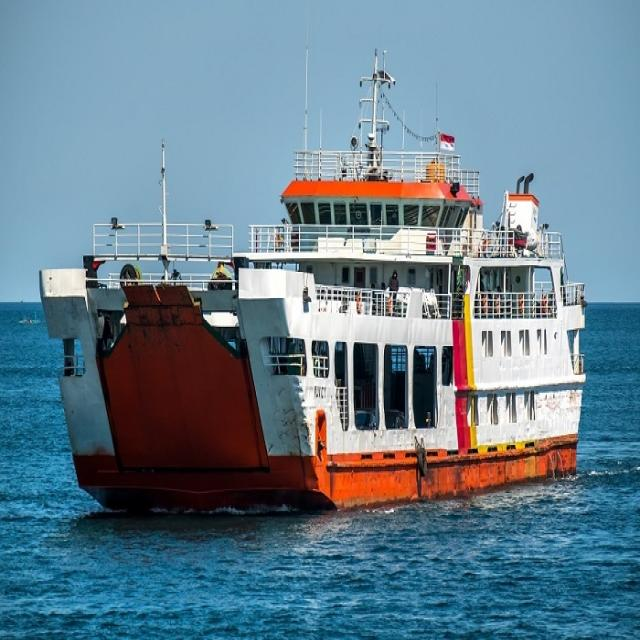PassengerShip: (12, 104, 639, 540)
